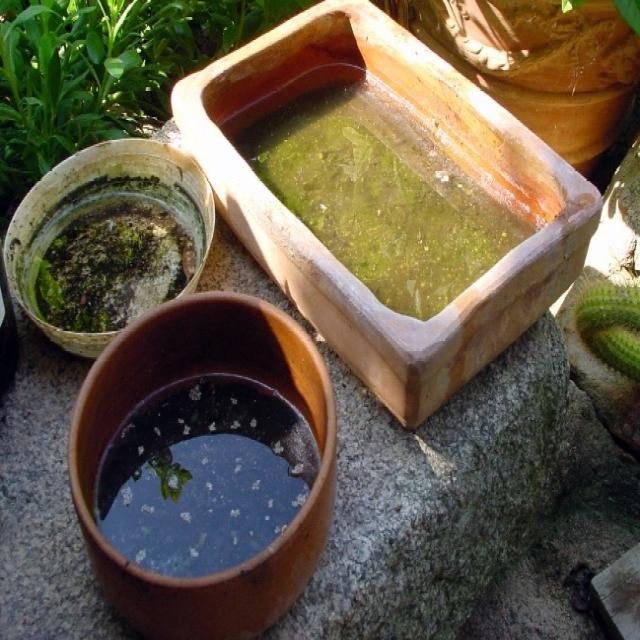Breeding Place: (172, 0, 611, 430), (67, 295, 336, 611), (1, 139, 213, 340)
